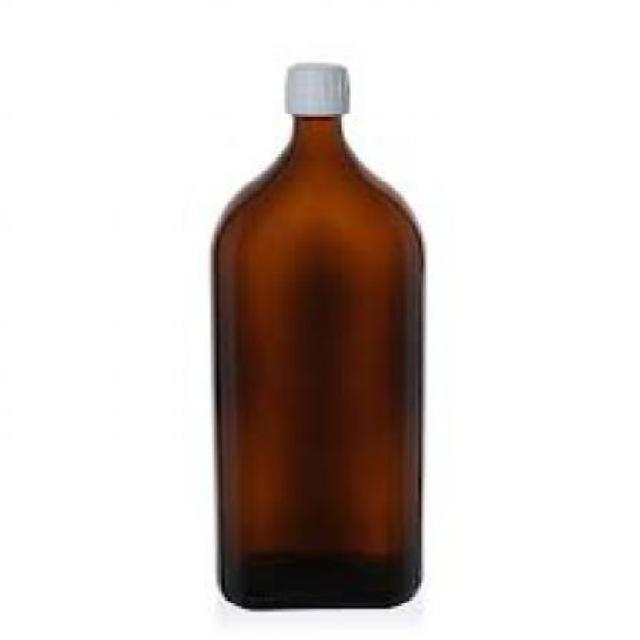kaca: (208, 114, 422, 606)
